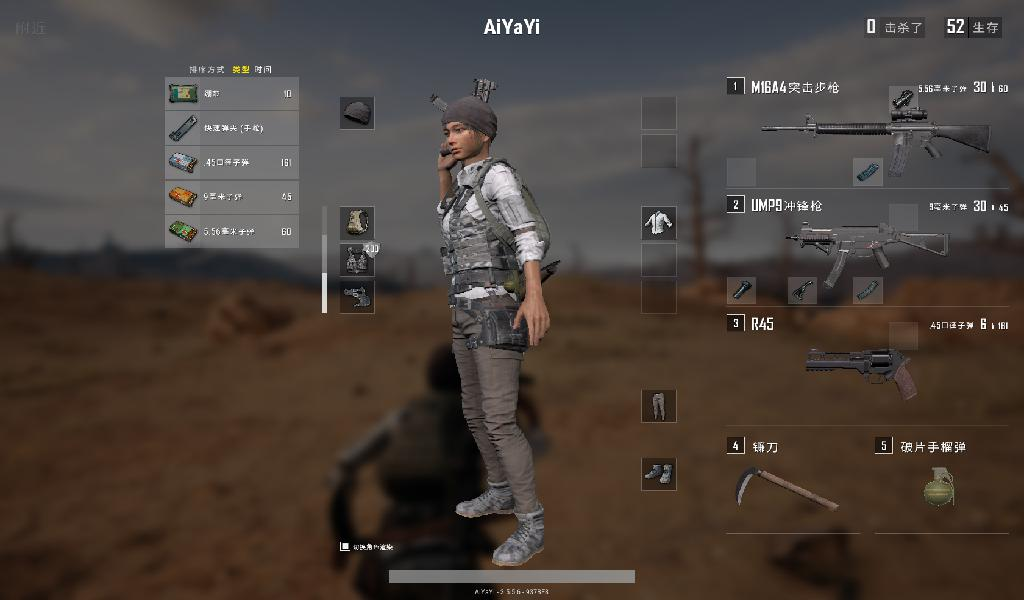Target Person: (428, 76, 562, 571)
